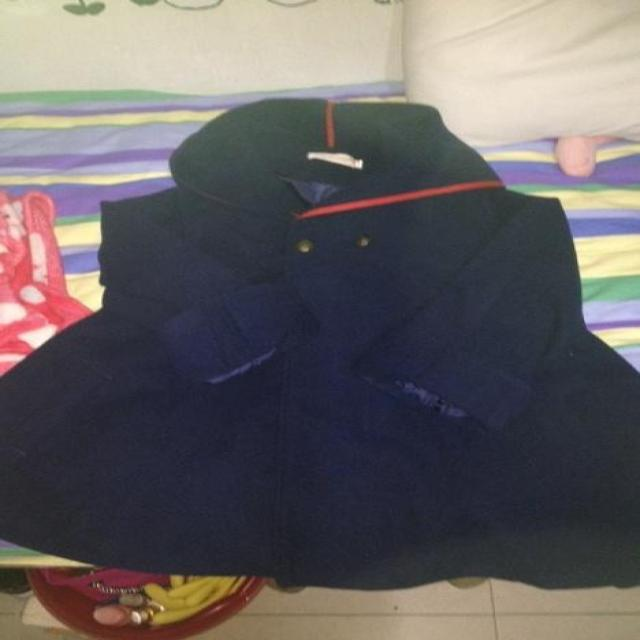long sleeve top: (1, 141, 637, 589)
